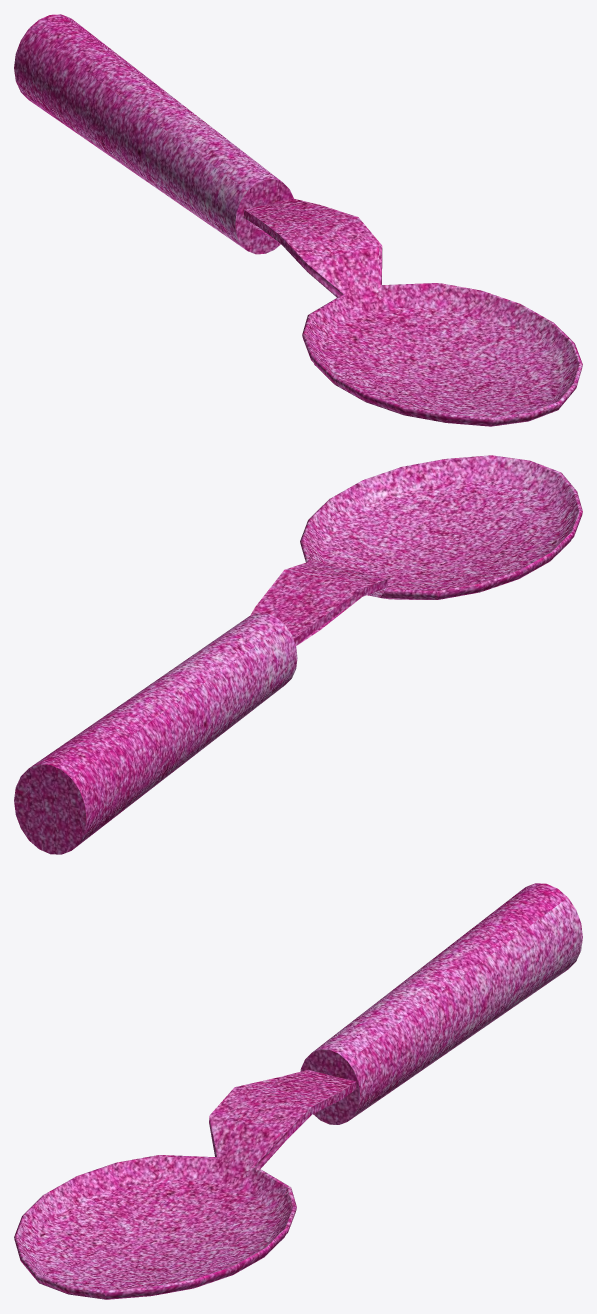
File: Spoon 3.fbx
3 renders of one model, top to bottom at view 1: azimuth 30°, elevation 25°; view 2: azimuth 150°, elevation 25°; view 3: azimuth 330°, elevation 25°, orthographic.
Visible parts, largest first — view 1: polySurface1; view 2: polySurface1; view 3: polySurface1.
Boxes of the visible parts, left/top/right/bottom form: polySurface1: left=14, top=14, right=582, bottom=426; polySurface1: left=14, top=455, right=582, bottom=854; polySurface1: left=14, top=883, right=582, bottom=1299.
Bounding box in the file's own units: 1.13 × 0.4291 × 4.21.
1 material, 1 textured.
